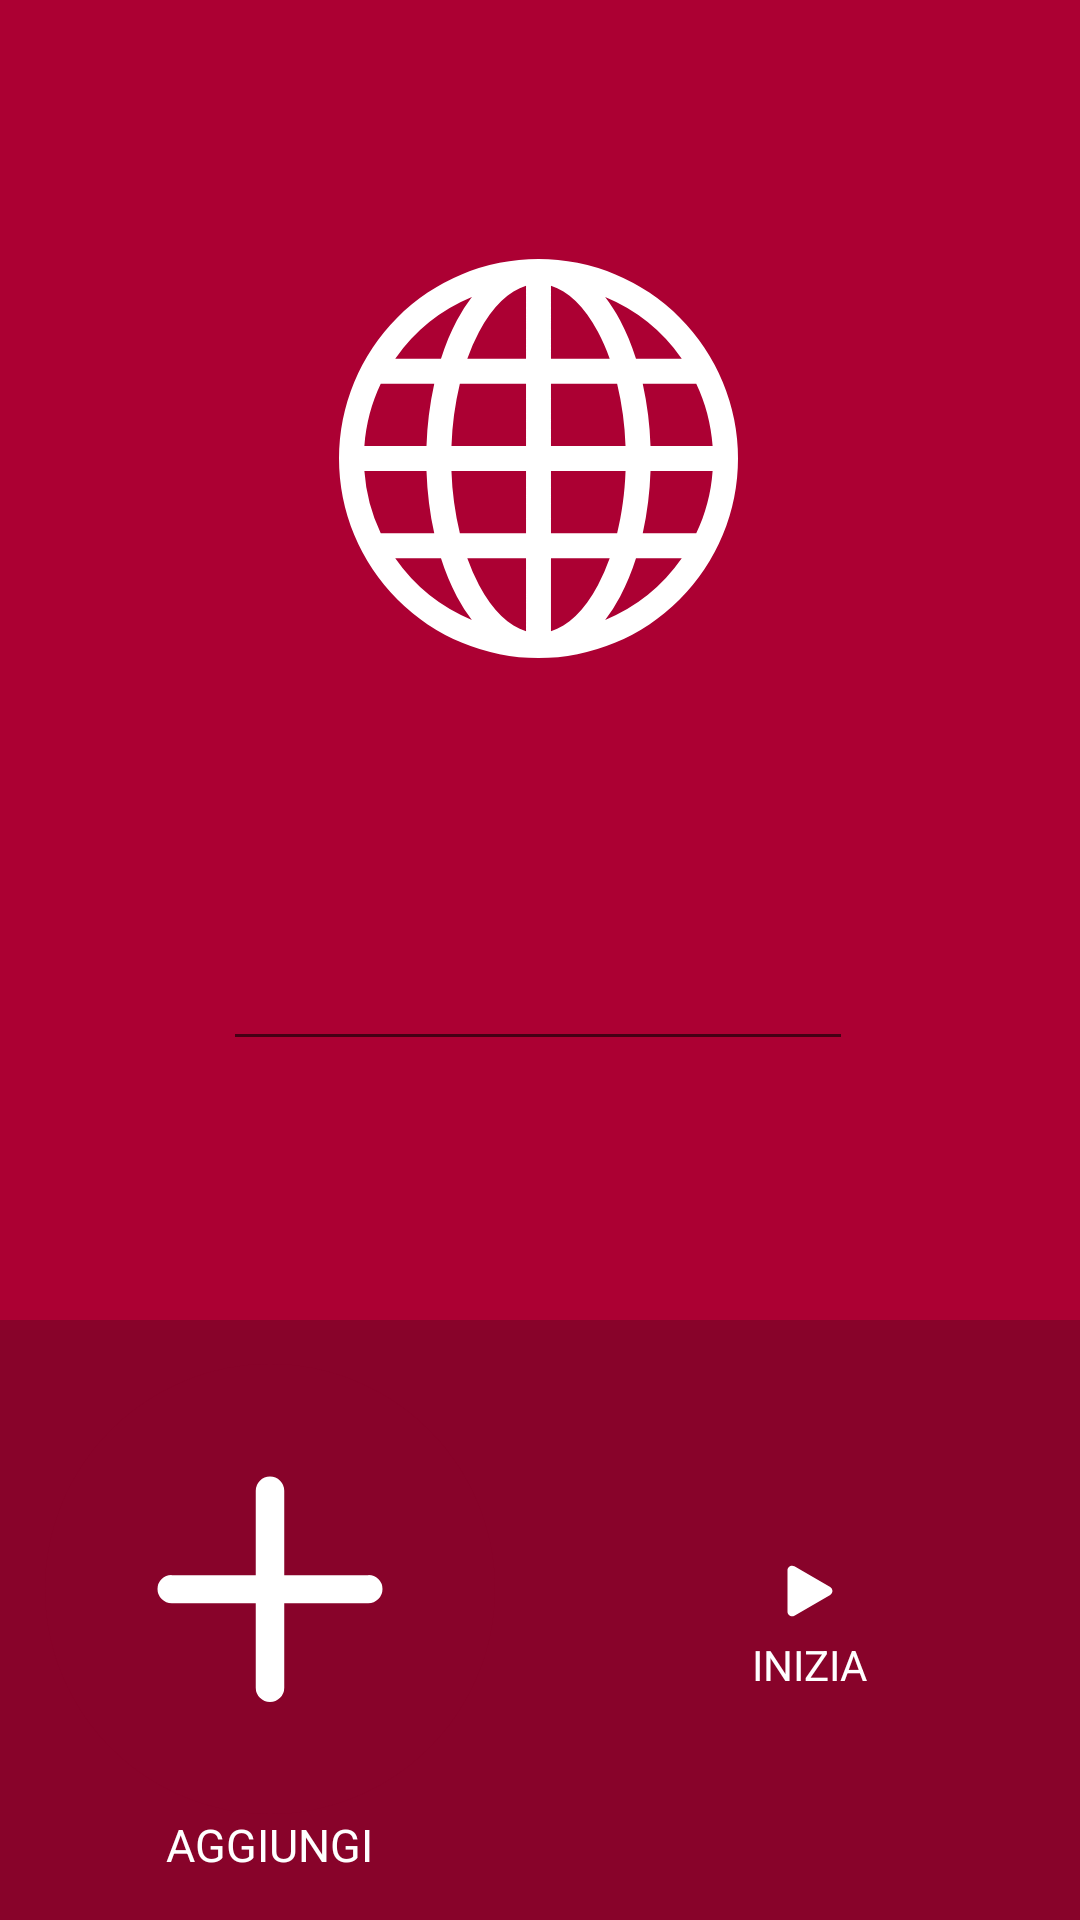

Icons on this 1080 × 1920 Android screen, each with its box as (x1, y1, x2, y2):
play: (787, 1565, 833, 1617)
